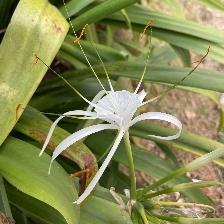spider lily: (76, 87, 165, 159)
